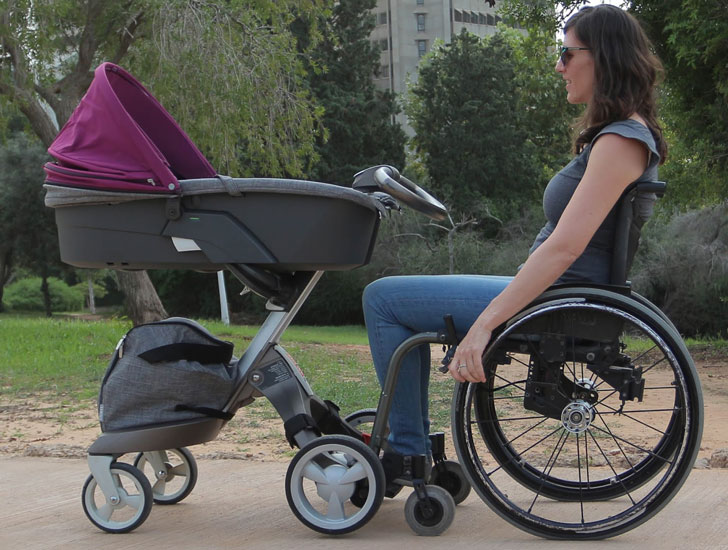person: (521, 15, 666, 294)
wheelchair: (366, 272, 709, 539)
